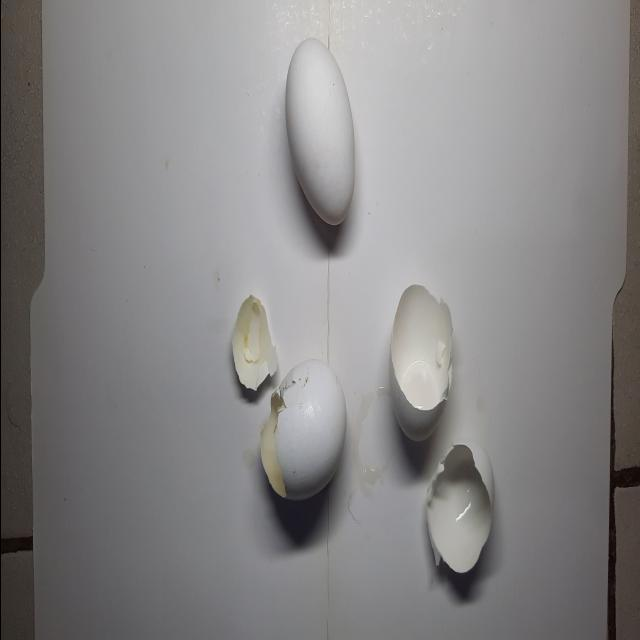egg shell: (282, 37, 356, 229), (264, 374, 348, 506), (387, 282, 453, 446), (423, 433, 495, 578), (229, 291, 285, 398)
